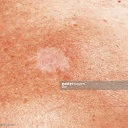Carcinoma: (32, 46, 77, 76)
